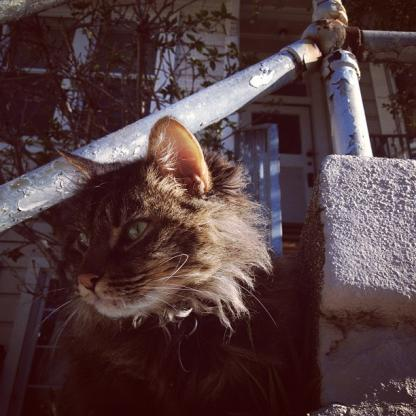Target: (31, 112, 297, 416)
